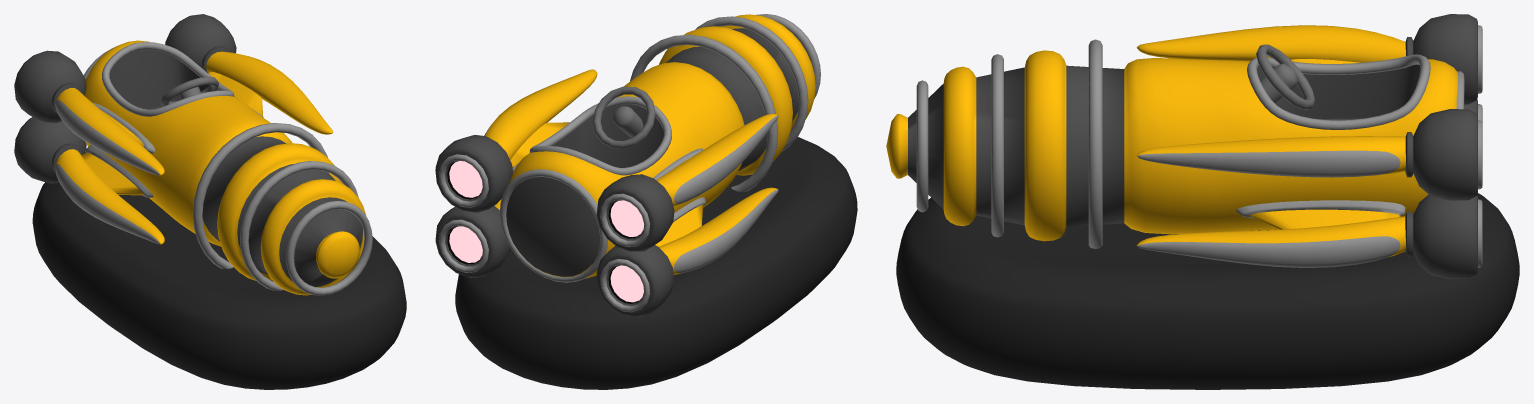
Rendered from PH_Car_A.fbx.
3 views of the same model, side by side, from view 1: azimuth 30°, elevation 25°; view 2: azimuth 150°, elevation 25°; view 3: azimuth 270°, elevation 25° (orthographic). The views are drawn at different scales.
Parts seen in each view (by area): view 1: mesh_Car_Menu_A; view 2: mesh_Car_Menu_A; view 3: mesh_Car_Menu_A.
Part boxes in pixels (<box>): mesh_Car_Menu_A: <box>14,14,406,389</box>; mesh_Car_Menu_A: <box>435,14,857,389</box>; mesh_Car_Menu_A: <box>886,14,1519,389</box>.
Size of the model in its own units: 1.79 by 1.5 by 3.02.
